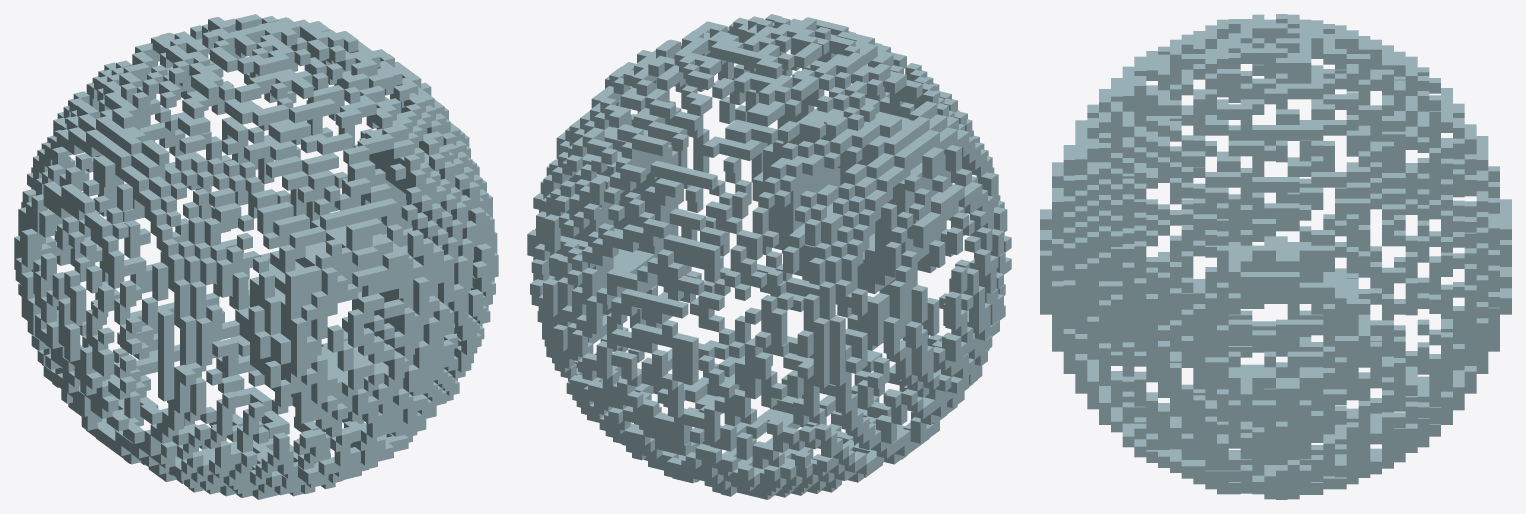
The model's file is Estrela_Neutrons#a7c3cb.dae.
3 renders of one model, left to right at view 1: azimuth 30°, elevation 25°; view 2: azimuth 150°, elevation 25°; view 3: azimuth 270°, elevation 25°, orthographic.
Visible parts, largest first — view 1: Estrela_Neutrons#a7c3cb-obj.vox; view 2: Estrela_Neutrons#a7c3cb-obj.vox; view 3: Estrela_Neutrons#a7c3cb-obj.vox.
Part boxes in pixels (left/top/right/bottom): Estrela_Neutrons#a7c3cb-obj.vox: left=14, top=14, right=498, bottom=499; Estrela_Neutrons#a7c3cb-obj.vox: left=527, top=14, right=1011, bottom=499; Estrela_Neutrons#a7c3cb-obj.vox: left=1040, top=14, right=1511, bottom=499.
Size of the model in its own units: 4 by 4 by 4.
